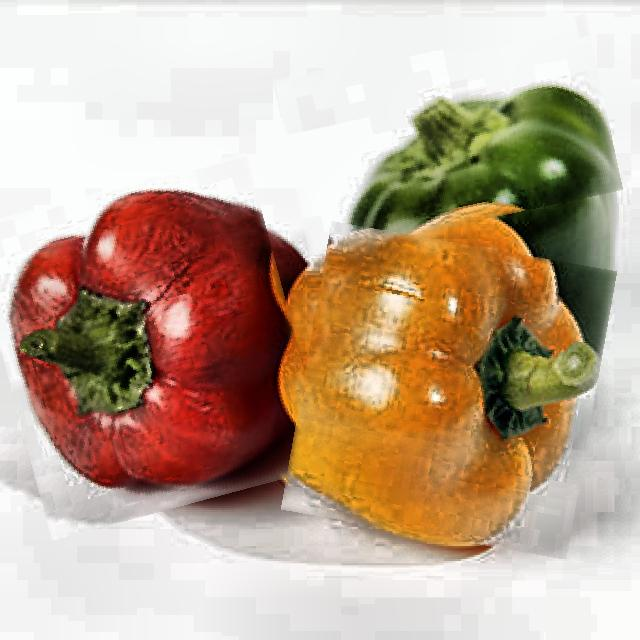capsicum: (292, 233, 606, 548)
green pepper: (281, 30, 615, 241)
red capsicum: (0, 168, 311, 524)
